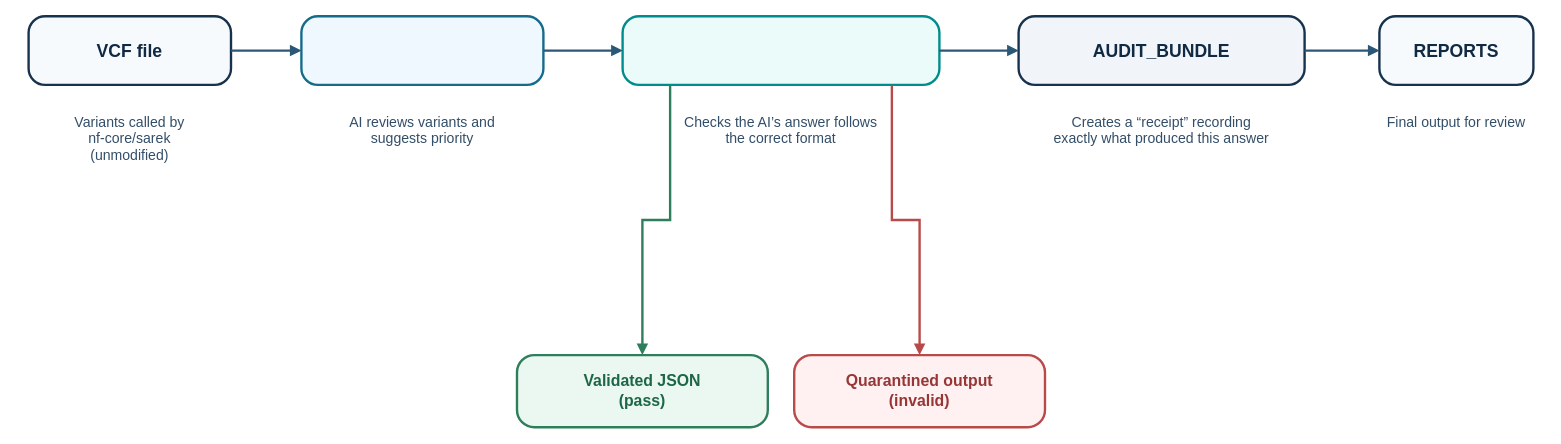
Image size: 1561x444. Some labels were removed from this diagram. Each missing label, with the centre of its shape:
AI_TRIAGE: [422,50]
JSON_VALIDATION: [780,50]
